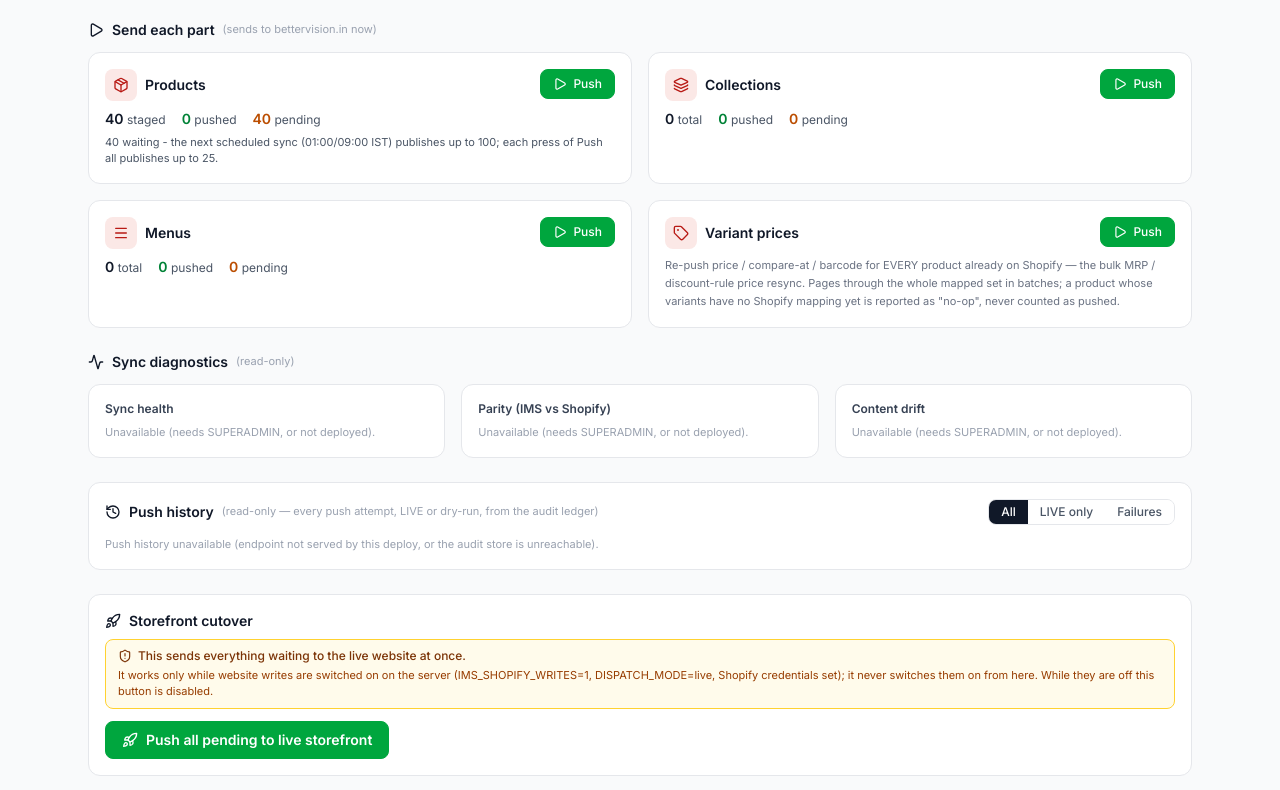
Scenario: the cutover press speaks through the same builder as the per-entity press › is a WARNING over the day-1 configuration, with the buckets and the stock pass on the line
(page scrolled)
Click the button "Push all pending to live storefront" at {"x": 247, "y": 740}, box x1=105 y1=721 x2=389 y2=759
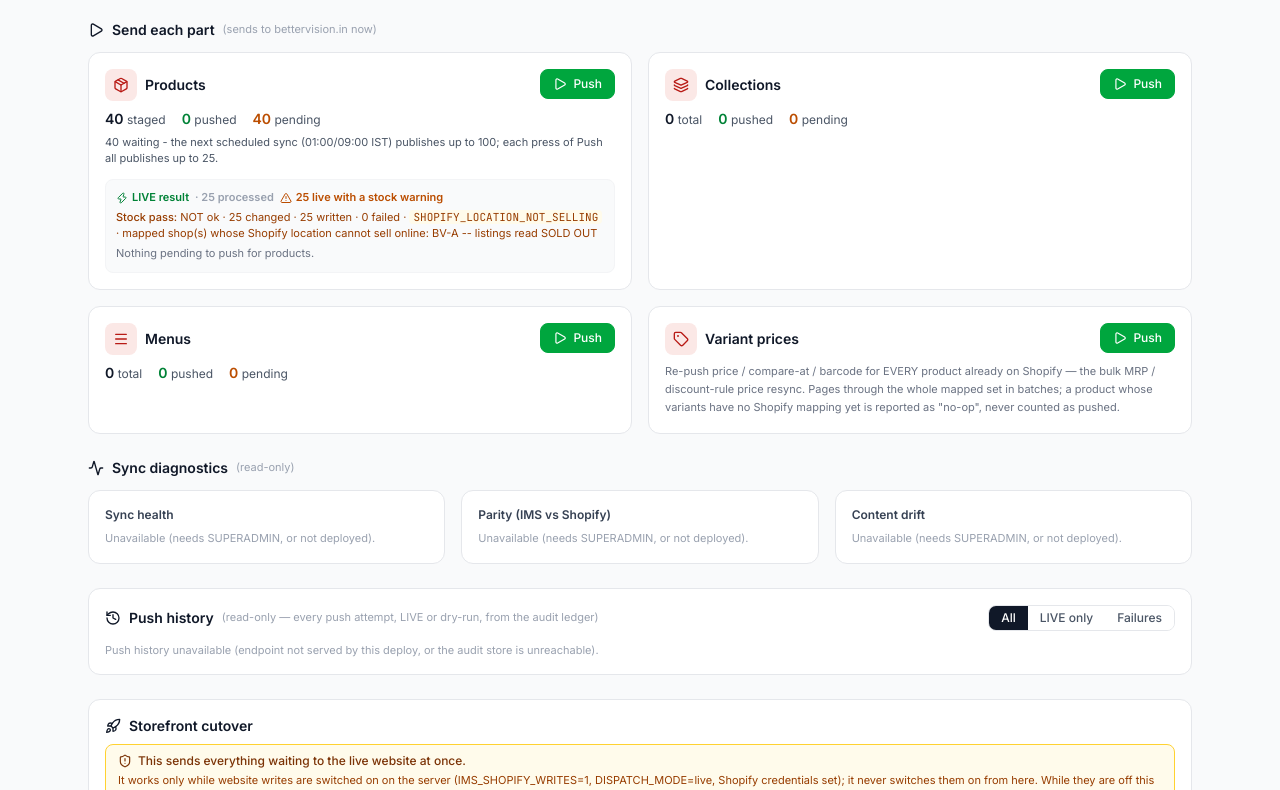
Expected: the element with test id "sweep-stock-line" shows "SHOPIFY_LOCATION_NOT_SELLING", x1=413 y1=210 x2=598 y2=224
